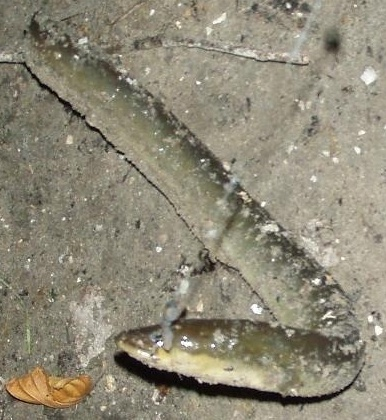Anguilla anguilla: (20, 20, 366, 400)
